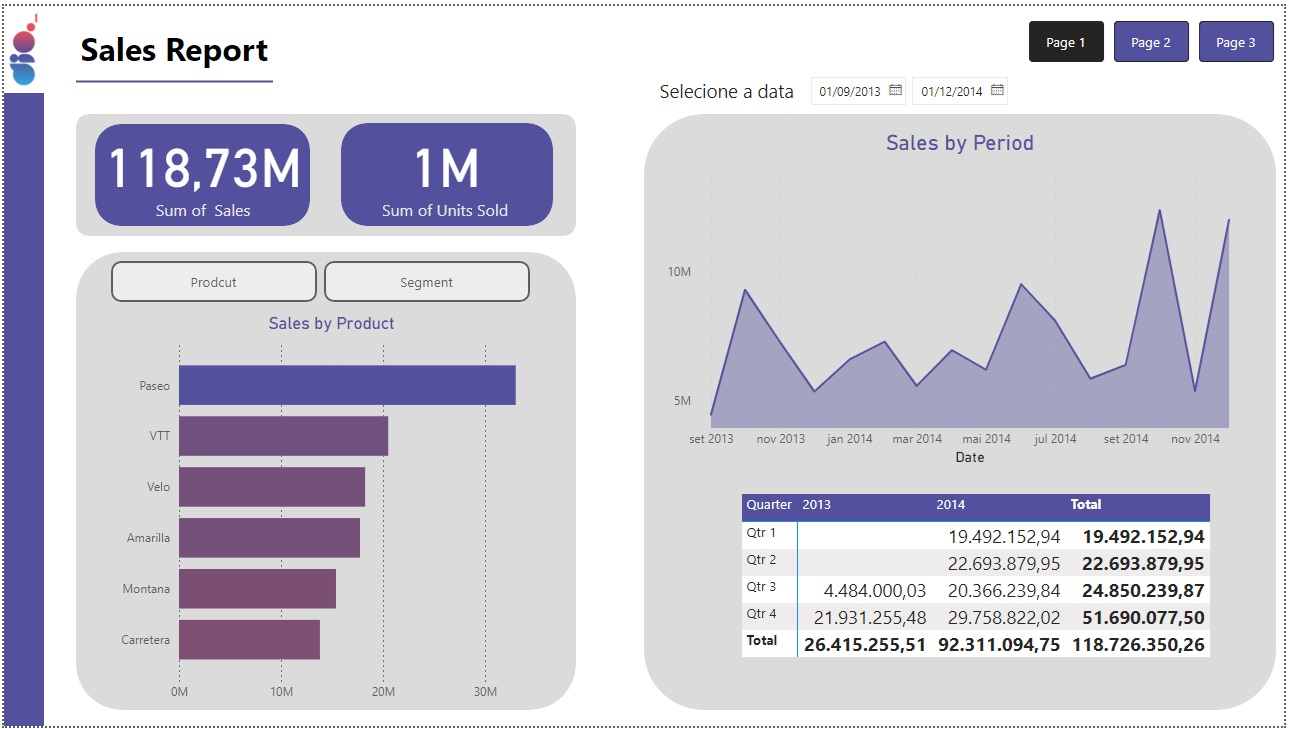

Layout of this report page (visuals, bound fields, positions):
{"tool":"powerbi","page":{"name":"Page 1","canvas":[1280,720],"ordinal":0},"visuals":[{"type":"group","id":"g1","title":"background","box":[0,0,1271.6,720],"z":0},{"type":"card","fields":{"Values":["Sum(financials. Sales)"]},"box":[90.9,108.5,215.6,113.3],"z":0,"group":"g3"},{"type":"shape","box":[91.1,118.4,214.9,102.1],"z":0,"group":"g2"},{"type":"shape","box":[71.6,246.3,500.6,457.6],"z":0,"group":"g1"},{"type":"shape","box":[71.6,108.4,500.6,121.8],"z":1000},{"type":"shape","box":[640.3,108.4,631.3,595.5],"z":1000,"group":"g1"},{"type":"card","fields":{"Values":["Sum(financials.Units Sold)"]},"box":[333.4,108.5,215.6,113.3],"z":1000,"group":"g3"},{"type":"shape","box":[337.4,117.5,211.3,103],"z":1000,"group":"g2"},{"type":"shape","box":[0,0,40,720],"z":2000,"group":"g1"},{"type":"group","id":"g2","title":"visuals bg","box":[91.1,117.5,457.6,103],"z":2000},{"type":"group","id":"g3","title":"cards","box":[90.9,108.5,458,113.3],"z":3000},{"type":"shape","box":[0,0,40,87.3],"z":4000,"group":"g1"},{"type":"clusteredBarChart","title":"Sales by Product","fields":{"Y":["Sum(financials. Sales)"],"Category":["financials.Product"]},"box":[107.5,307.2,441.5,396.7],"z":4000},{"type":"image","box":[0,0,40,87.3],"z":5000,"group":"g1"},{"type":"lineChart","title":"Sales by Period","fields":{"Y":["Sum(financials. Sales)"],"Category":["financials.Date.Variation.Date Hierarchy.Year"]},"box":[658.2,124.5,596.4,339.4],"z":5000},{"type":"textbox","box":[71.6,15.1,275.1,56.4],"z":6000,"group":"g1"},{"type":"slicer","fields":{"Values":["financials.Date"]},"box":[794.3,61.4,223.3,49.4],"z":7000},{"type":"shape","box":[71.6,64.5,197,22.4],"z":7000,"group":"g1"},{"type":"actionButton","title":"bar chart","box":[319.7,255.2,206,41.2],"z":8000},{"type":"actionButton","box":[107.5,255.2,206,41.2],"z":9000},{"type":"textbox","box":[651,67.3,215.1,37.6],"z":10000},{"type":"pivotTable","fields":{"Values":["Sum(financials. Sales)"],"Rows":["financials.Date.Variation.Date Hierarchy.Quarter"],"Columns":["financials.Date.Variation.Date Hierarchy.Year"]},"box":[732.5,482.7,492.5,194.3],"z":11000},{"type":"pageNavigator","box":[1024.5,15.5,246.4,40.9],"z":12000}]}

Visuals, with their boxes in screenshot pixels (x1, y1, x2, y2), scaled from the page's 1280x720 canvas onto the 1289x729 screenshot:
"background" group: bbox=[0, 0, 1281, 728]
card - Sum(financials. Sales): bbox=[92, 110, 309, 225]
shape: bbox=[92, 120, 308, 223]
shape: bbox=[72, 249, 576, 713]
shape: bbox=[72, 110, 576, 233]
shape: bbox=[645, 110, 1281, 713]
card - Sum(financials.Units Sold): bbox=[336, 110, 553, 225]
shape: bbox=[340, 119, 553, 223]
shape: bbox=[0, 0, 40, 728]
"visuals bg" group: bbox=[92, 119, 553, 223]
"cards" group: bbox=[92, 110, 553, 225]
shape: bbox=[0, 0, 40, 88]
"Sales by Product" clusteredBarChart: bbox=[108, 311, 553, 713]
image: bbox=[0, 0, 40, 88]
"Sales by Period" lineChart: bbox=[663, 126, 1263, 470]
textbox: bbox=[72, 15, 349, 72]
slicer - financials.Date: bbox=[800, 62, 1025, 112]
shape: bbox=[72, 65, 270, 88]
"bar chart" actionButton: bbox=[322, 258, 529, 300]
actionButton: bbox=[108, 258, 316, 300]
textbox: bbox=[656, 68, 872, 106]
pivotTable - Sum(financials. Sales) x financials.Date.Variation.Date Hierarchy.Quarter: bbox=[738, 489, 1234, 685]
pageNavigator: bbox=[1032, 16, 1280, 57]
